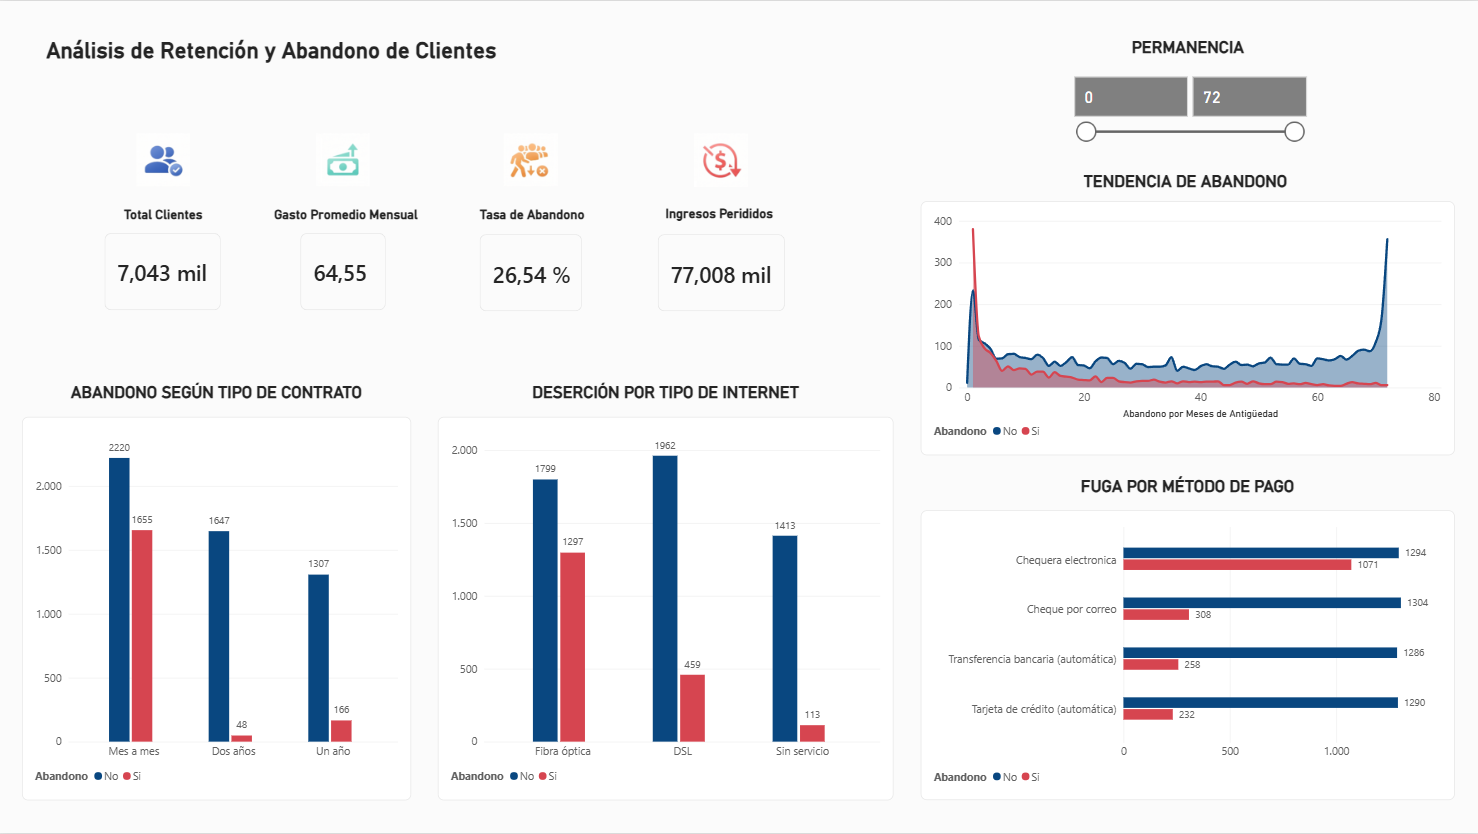

Layout of this report page (visuals, bound fields, positions):
{"tool":"powerbi","page":{"name":"Página 1","canvas":[1920,1080],"ordinal":0},"visuals":[{"type":"cardVisual","title":"Total Clientes","fields":{"Data":["Count(telco_churn_limpio.customerID)"]},"box":[136.2,300.8,151.2,100],"z":0},{"type":"clusteredColumnChart","fields":{"Category":["telco_churn_limpio.Contract"],"Series":["telco_churn_limpio.Churn"],"Y":["CountNonNull(telco_churn_limpio.customerID)"]},"box":[28.3,540,505,498.3],"z":1000},{"type":"cardVisual","fields":{"Data":["telco_churn_limpio.Promedio_Gasto_Mensual"]},"box":[389.9,300.8,111.2,100],"z":2000},{"type":"clusteredBarChart","fields":{"Category":["telco_churn_limpio.PaymentMethod"],"Series":["telco_churn_limpio.Churn"],"Y":["CountNonNull(telco_churn_limpio.customerID)"]},"box":[1195,661.7,693.3,376.7],"z":3000},{"type":"clusteredColumnChart","fields":{"Category":["telco_churn_limpio.InternetService"],"Series":["telco_churn_limpio.Churn"],"Y":["CountNonNull(telco_churn_limpio.customerID)"]},"box":[568.3,540,591.7,498.3],"z":4000},{"type":"slicer","fields":{"Values":["telco_churn_limpio.tenure"]},"box":[1386.7,93.3,310,101.7],"z":5000},{"type":"cardVisual","fields":{"Data":["telco_churn_limpio.Tasa_Churn_Global"]},"box":[622.6,302.4,133.3,100],"z":6000},{"type":"cardVisual","fields":{"Data":["telco_churn_limpio.Ingresos_Perdidos_Mensuales"]},"box":[854.2,302.4,165,100],"z":7000},{"type":"areaChart","fields":{"Category":["telco_churn_limpio.tenure"],"Series":["telco_churn_limpio.Churn"],"Y":["Count(telco_churn_limpio.customerID)"]},"box":[1195,260,693.3,330],"z":8000},{"type":"textbox","box":[113.3,266.7,198.3,33.3],"z":9000},{"type":"textbox","box":[329.1,267.3,241.7,46.7],"z":10000},{"type":"textbox","box":[579.1,267.3,225,35],"z":11000},{"type":"image","box":[176.7,171.7,70,69.2],"z":12000},{"type":"image","box":[410,171.7,70,69.2],"z":13000},{"type":"image","box":[655,171.7,70,69.2],"z":14000},{"type":"image","box":[901.7,171.7,70,70],"z":15000},{"type":"textbox","box":[60,46.7,595,46.7],"z":16000},{"type":"textbox","box":[85,495,393.3,45],"z":17000},{"type":"textbox","box":[683.3,495,363.3,45],"z":18000},{"type":"textbox","box":[1396.7,616.7,290,45],"z":19000},{"type":"textbox","box":[1406.5,221.5,279.3,36.4],"z":20000},{"type":"textbox","box":[864.4,266.1,155.4,24.8],"z":21000},{"type":"textbox","box":[1438.3,46.7,208.3,51.7],"z":22000}]}

Visuals, with their boxes in screenshot pixels (x1, y1, x2, y2), scaled from the page's 1920x1080 canvas onto the 1478x834 screenshot:
"Total Clientes" cardVisual: [x1=105, y1=232, x2=221, y2=310]
clusteredColumnChart - telco_churn_limpio.Contract x telco_churn_limpio.Churn: [x1=22, y1=417, x2=411, y2=802]
cardVisual - telco_churn_limpio.Promedio_Gasto_Mensual: [x1=300, y1=232, x2=386, y2=310]
clusteredBarChart - telco_churn_limpio.PaymentMethod x telco_churn_limpio.Churn: [x1=920, y1=511, x2=1454, y2=802]
clusteredColumnChart - telco_churn_limpio.InternetService x telco_churn_limpio.Churn: [x1=437, y1=417, x2=893, y2=802]
slicer - telco_churn_limpio.tenure: [x1=1067, y1=72, x2=1306, y2=151]
cardVisual - telco_churn_limpio.Tasa_Churn_Global: [x1=479, y1=234, x2=582, y2=311]
cardVisual - telco_churn_limpio.Ingresos_Perdidos_Mensuales: [x1=658, y1=234, x2=785, y2=311]
areaChart - telco_churn_limpio.tenure x telco_churn_limpio.Churn: [x1=920, y1=201, x2=1454, y2=456]
textbox: [x1=87, y1=206, x2=240, y2=232]
textbox: [x1=253, y1=206, x2=439, y2=242]
textbox: [x1=446, y1=206, x2=619, y2=233]
image: [x1=136, y1=133, x2=190, y2=186]
image: [x1=316, y1=133, x2=370, y2=186]
image: [x1=504, y1=133, x2=558, y2=186]
image: [x1=694, y1=133, x2=748, y2=187]
textbox: [x1=46, y1=36, x2=504, y2=72]
textbox: [x1=65, y1=382, x2=368, y2=417]
textbox: [x1=526, y1=382, x2=806, y2=417]
textbox: [x1=1075, y1=476, x2=1298, y2=511]
textbox: [x1=1083, y1=171, x2=1298, y2=199]
textbox: [x1=665, y1=205, x2=785, y2=225]
textbox: [x1=1107, y1=36, x2=1268, y2=76]
